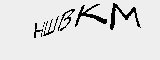В: (59, 7, 73, 32)
К: (78, 2, 107, 27)
М: (110, 2, 144, 29)
Н: (33, 20, 45, 37)
Ш: (44, 16, 56, 35)
